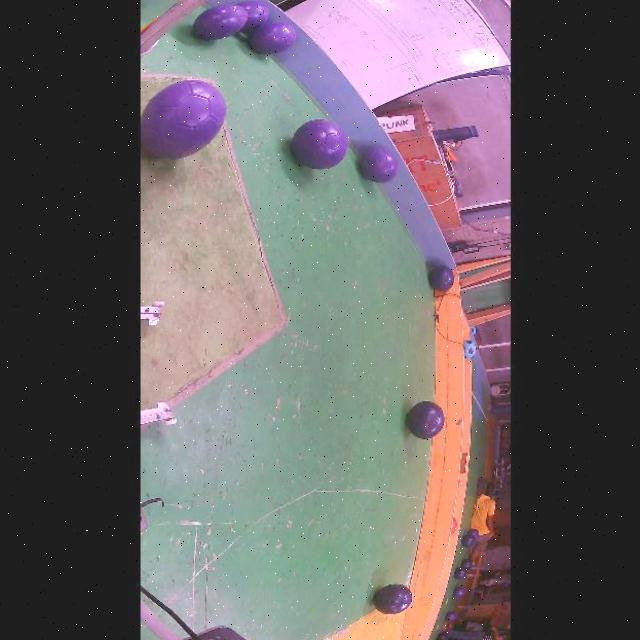B: (406, 402, 444, 439), (373, 584, 413, 615), (428, 265, 454, 292), (462, 534, 476, 547), (454, 566, 467, 579), (460, 558, 473, 570)
P: (140, 79, 226, 157), (291, 120, 347, 169), (193, 4, 247, 40), (250, 22, 296, 54), (359, 147, 397, 183), (238, 2, 269, 30)
